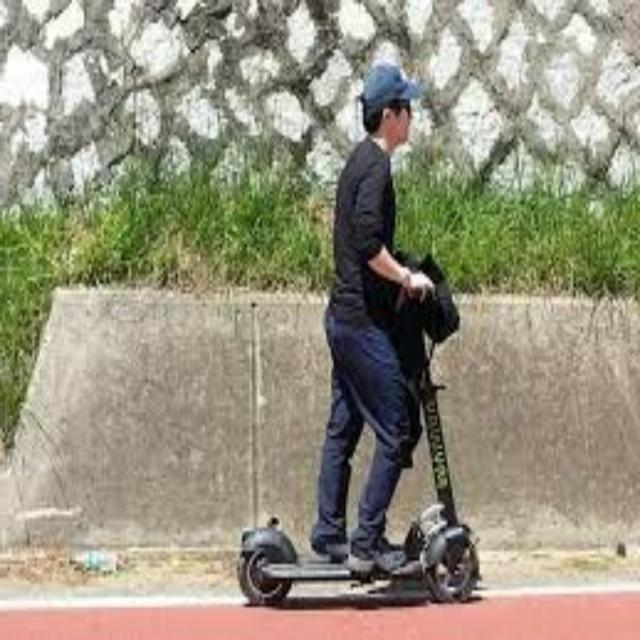bare_head: (346, 59, 432, 138)
human: (274, 57, 434, 556)
kickboard: (221, 519, 541, 618)
